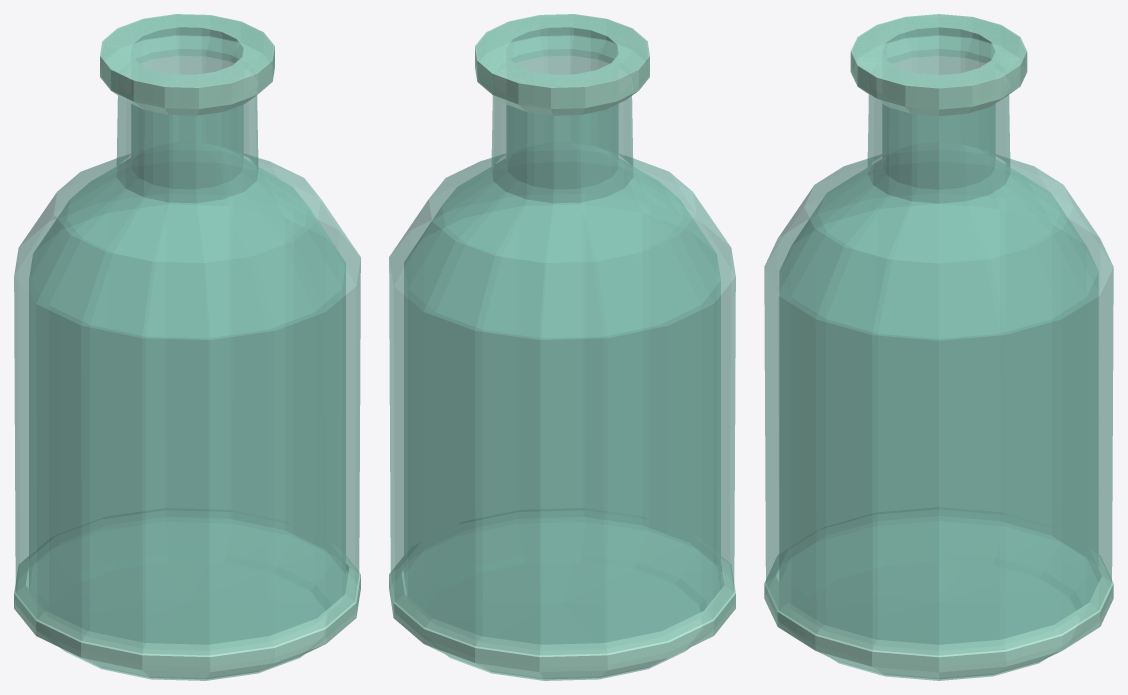
The model's file is empty_bottle.glb.
3 renders of one model, left to right at view 1: azimuth 30°, elevation 25°; view 2: azimuth 150°, elevation 25°; view 3: azimuth 270°, elevation 25°, orthographic.
Visible parts, largest first — view 1: Bottle_glass, Bottle_base, Bottle_lip; view 2: Bottle_glass, Bottle_base, Bottle_lip; view 3: Bottle_glass, Bottle_base, Bottle_lip.
Boxes of the visible parts, left/top/right/bottom form: Bottle_glass: left=14, top=15, right=360, bottom=680; Bottle_base: left=14, top=508, right=360, bottom=679; Bottle_lip: left=100, top=14, right=274, bottom=115; Bottle_glass: left=389, top=15, right=735, bottom=680; Bottle_base: left=389, top=508, right=735, bottom=679; Bottle_lip: left=475, top=14, right=649, bottom=115; Bottle_glass: left=764, top=15, right=1113, bottom=680; Bottle_base: left=764, top=507, right=1113, bottom=679; Bottle_lip: left=850, top=14, right=1027, bottom=115.
Bounding box in the file's own units: 0.21 × 0.378 × 0.21.
